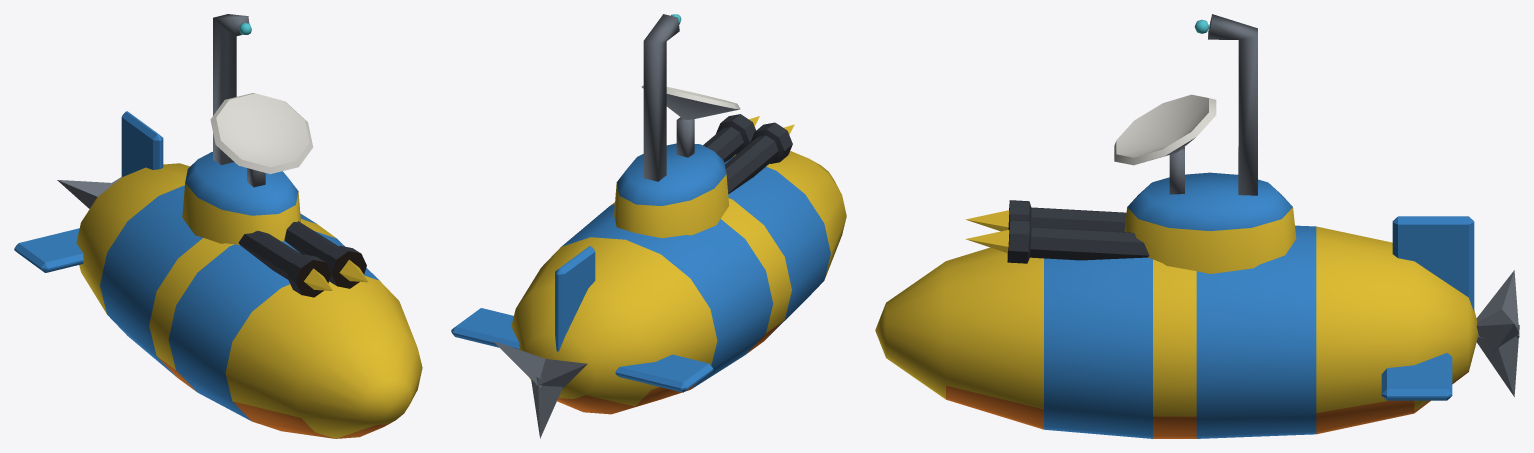
The picture shows the model from 3 angles, left to right: view 1: azimuth 30°, elevation 25°; view 2: azimuth 150°, elevation 25°; view 3: azimuth 270°, elevation 25°; orthographic projection. The views are drawn at different scales.
Visible parts, largest first — view 1: submarino_0_base, submarino_1_torreta; view 2: submarino_0_base, submarino_1_torreta; view 3: submarino_0_base, submarino_1_torreta.
Boxes of the visible parts, x1,y1,x2,y2 form: submarino_0_base: [14, 111, 422, 438]; submarino_1_torreta: [182, 14, 368, 297]; submarino_0_base: [451, 151, 846, 438]; submarino_1_torreta: [614, 14, 794, 238]; submarino_0_base: [875, 216, 1519, 438]; submarino_1_torreta: [965, 14, 1296, 273].
Size of the model in its own units: 0.58 by 0.8253 by 1.18.
